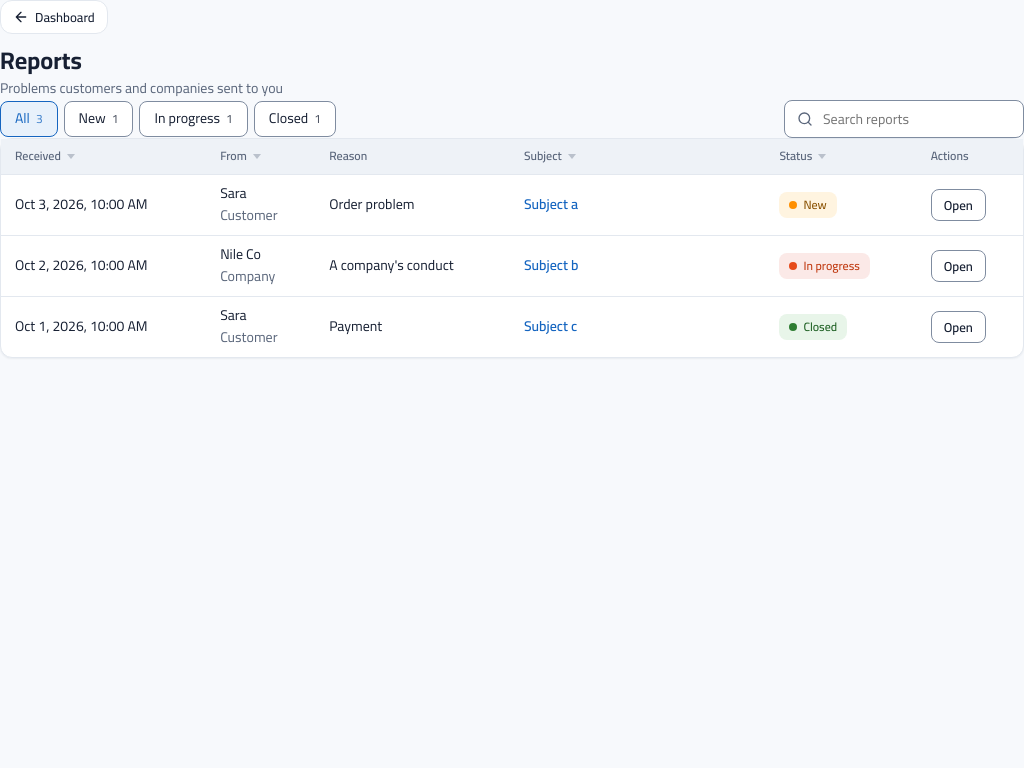
Test case: handling one › keeps the dialog open and says so when the rules refuse
Click the button "Open" in the row of "Oct 3, 2026, 10:00 AM" at (958, 205), box [931,189,986,221]
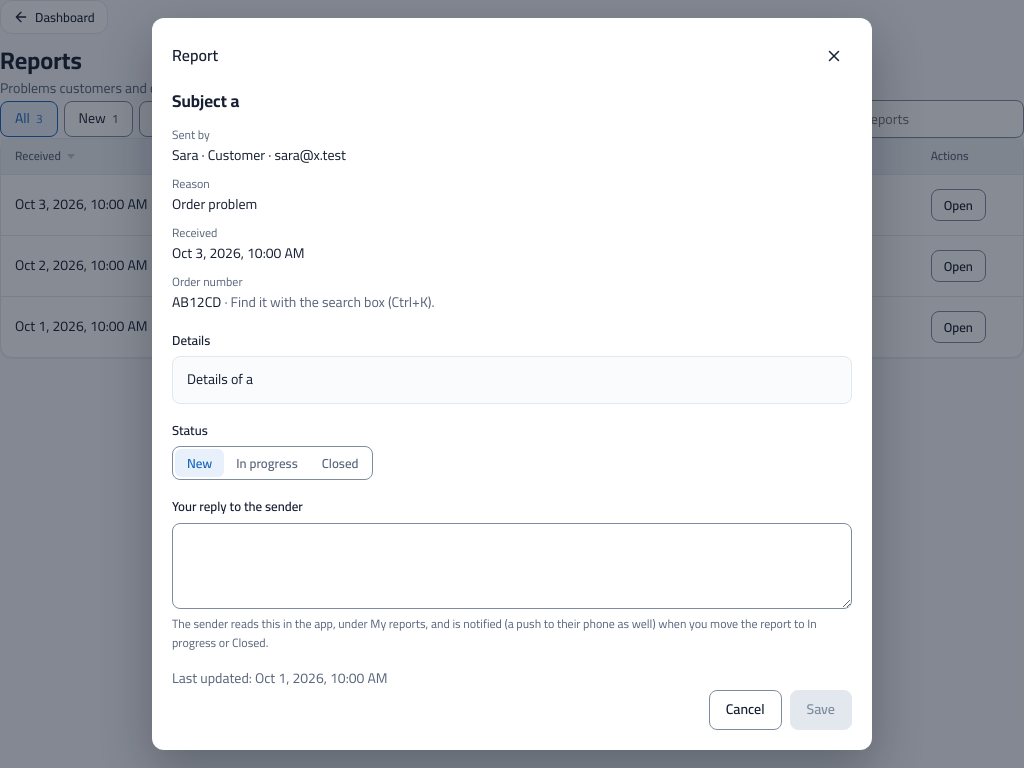
Click the button "In progress" at (267, 463), box [224,449,310,477]
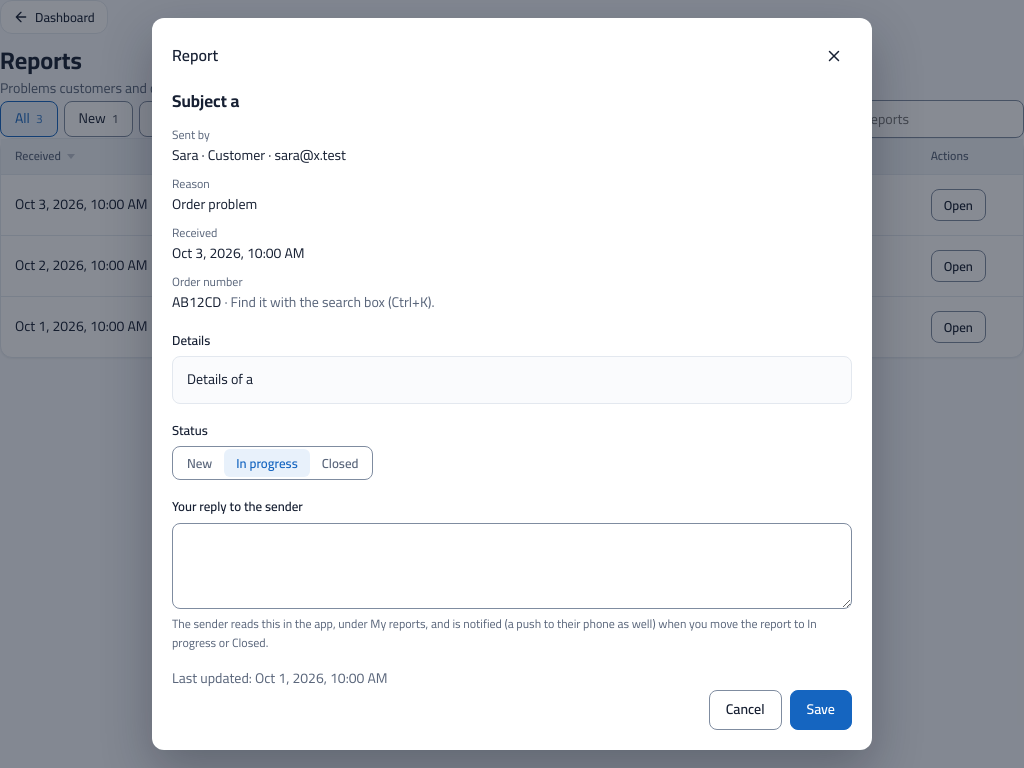
Click the button "Save" at (821, 710), box [790,690,852,730]
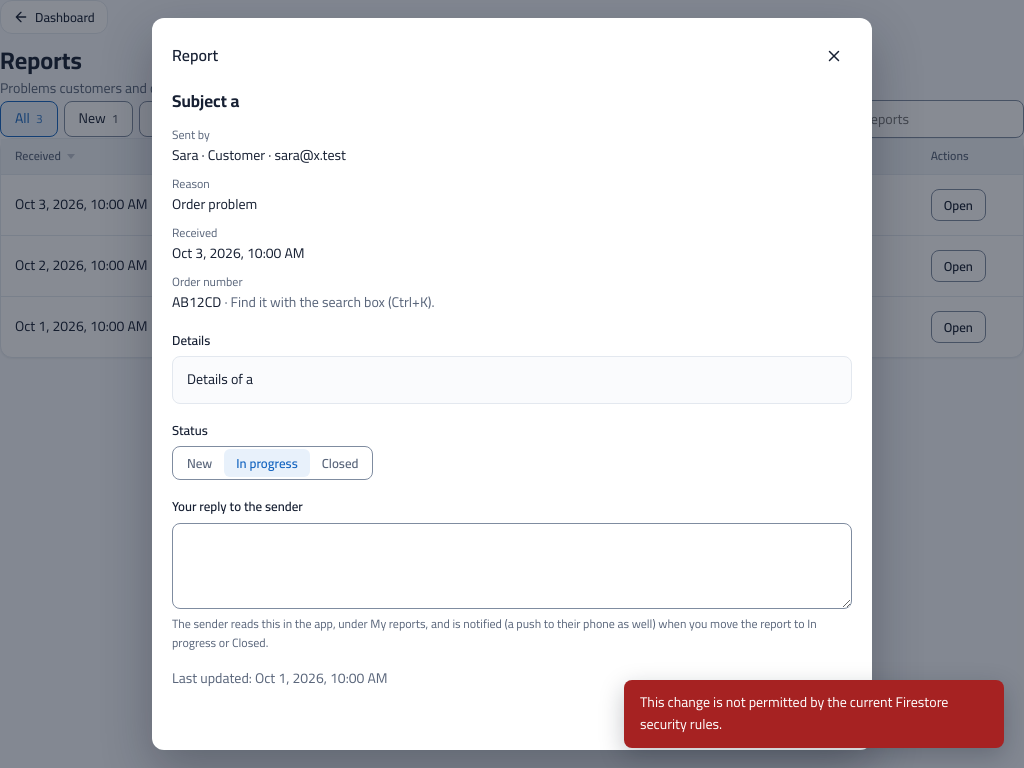
Result: the dialog is shown
Result: the text "This change is not permitted by the current Firestore security rules." is shown at [624,680,1004,748]
